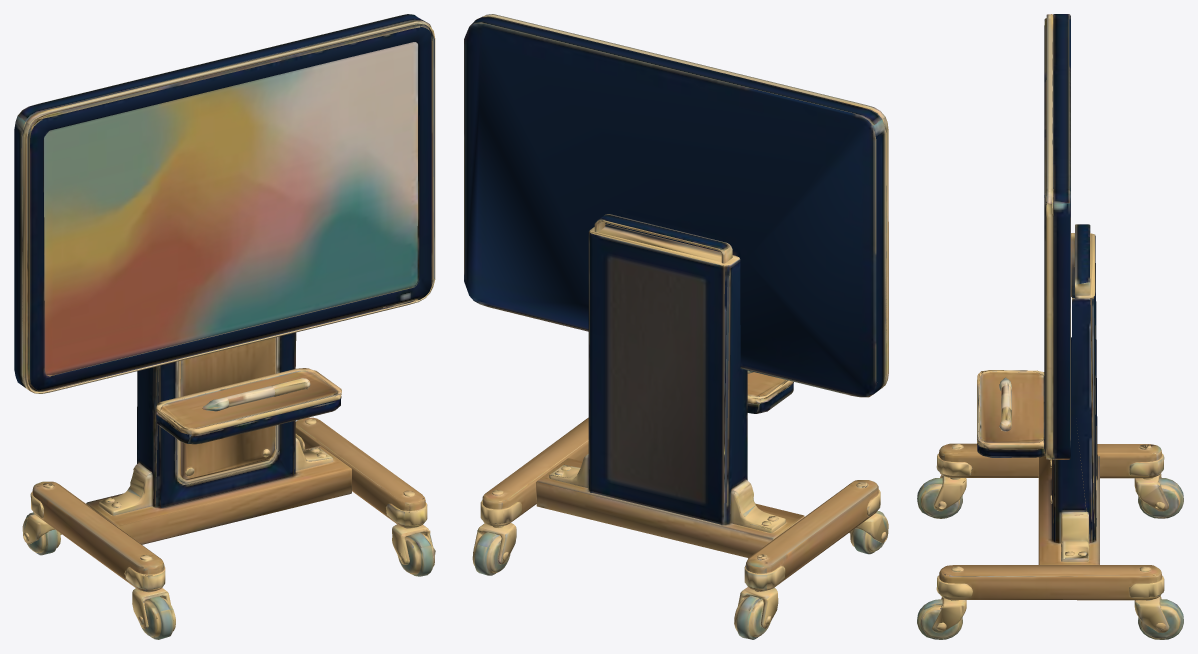
Rendered from display_mobile.glb.
3 renders of one model, left to right at view 1: azimuth 30°, elevation 25°; view 2: azimuth 150°, elevation 25°; view 3: azimuth 270°, elevation 25°, orthographic. The views are drawn at different scales.
Visible parts, largest first — view 1: prop; view 2: prop; view 3: prop.
Boxes of the visible parts, x1,y1,x2,y2 form: prop: (14, 14, 435, 639); prop: (464, 14, 888, 639); prop: (917, 14, 1183, 639).
Bounding box in the file's own units: 1.47 × 1.7 × 0.8667.
1 material, 1 textured.
